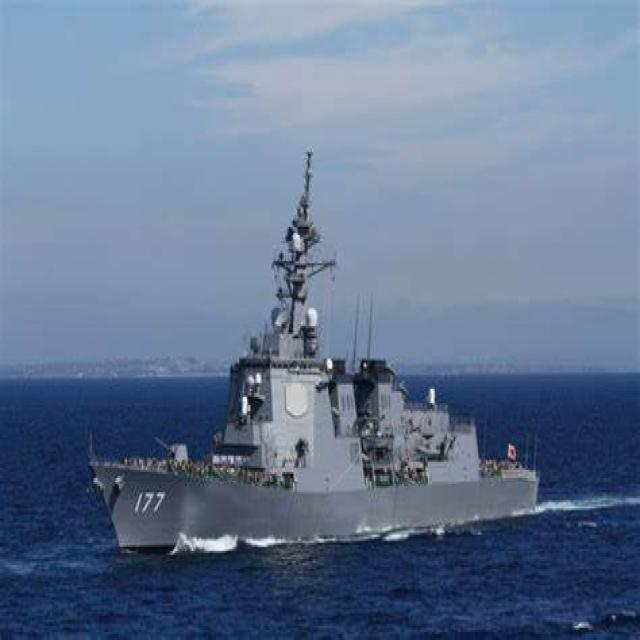navalvessels: (84, 130, 568, 550)
